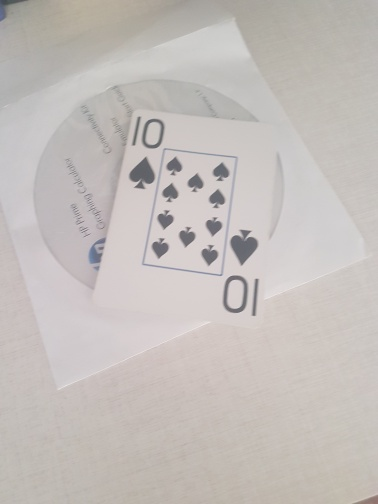ten: (95, 110, 281, 328)
